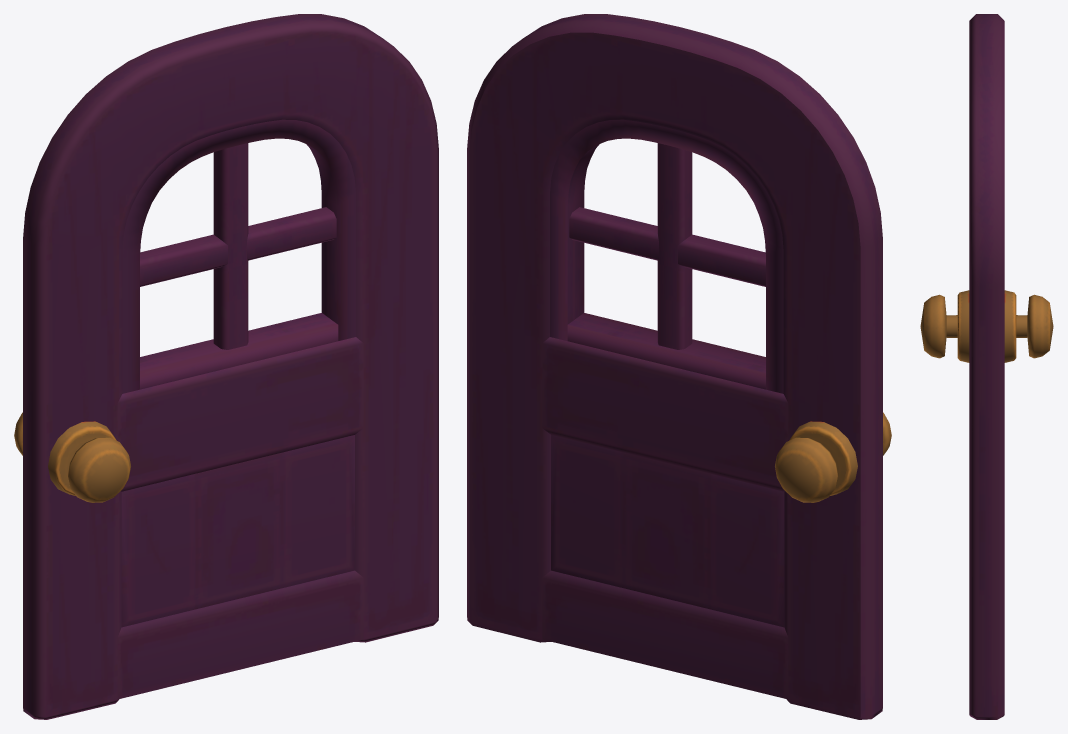
Rendered from standard_door_1.glb.
3 views of the same model, side by side, from view 1: azimuth 30°, elevation 25°; view 2: azimuth 150°, elevation 25°; view 3: azimuth 270°, elevation 25° (orthographic). The views are drawn at different scales.
Parts seen in each view (by area): view 1: Frame1_1__mDoorR; view 2: Frame1_1__mDoorR; view 3: Frame1_1__mDoorR.
Part boxes in pixels (x1,y1,x2,y2): Frame1_1__mDoorR: (14,14,438,719); Frame1_1__mDoorR: (467,14,891,719); Frame1_1__mDoorR: (920,14,1053,719).
Size of the model in its own units: 12 by 18 by 3.74.
Materials: 1 (1 with a texture image).
